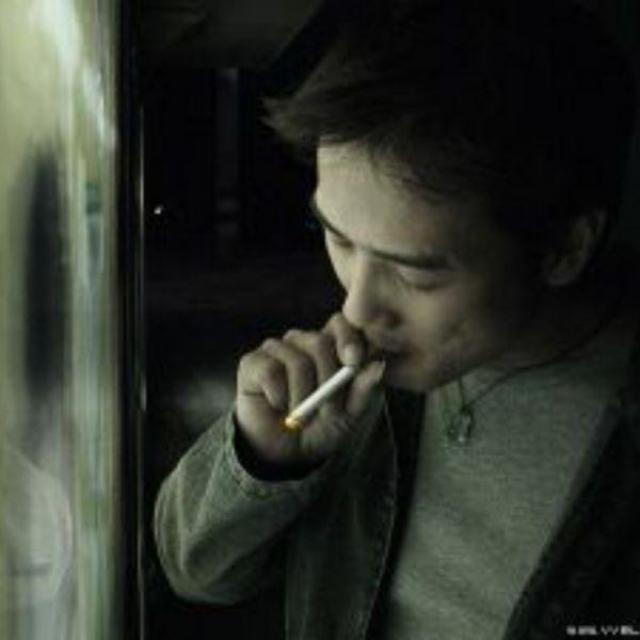cigarette: (264, 337, 376, 448)
